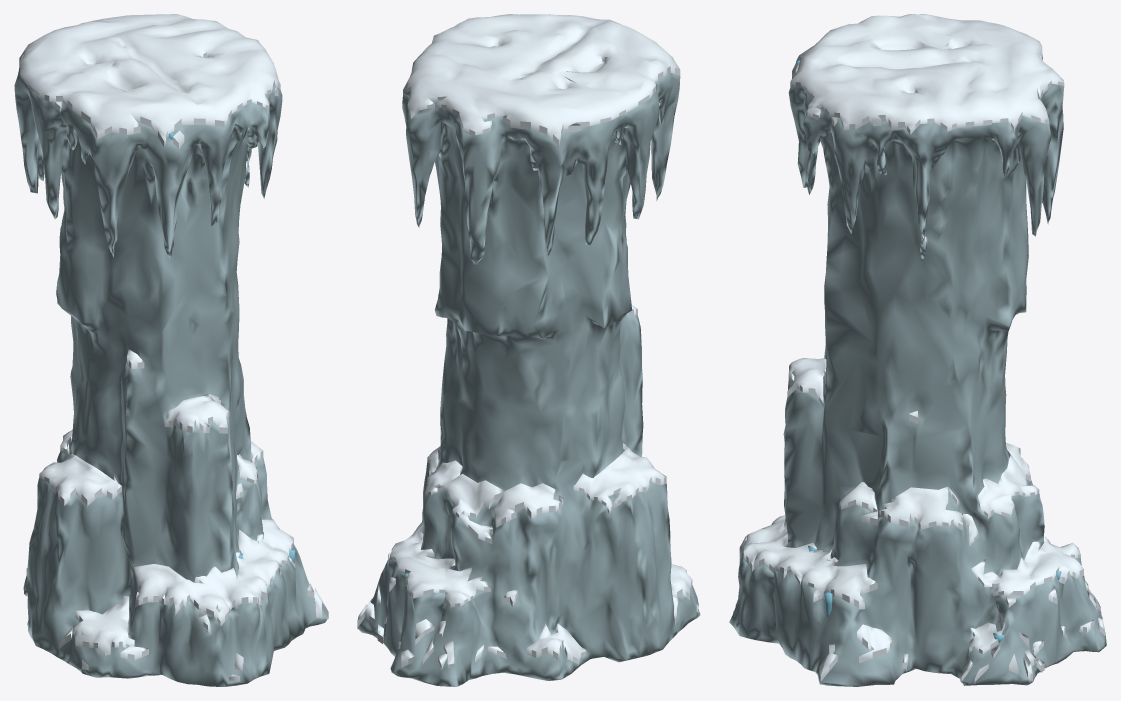
File: BossRoom_FrostPillar.fbx
3 renders of one model, left to right at view 1: azimuth 30°, elevation 25°; view 2: azimuth 150°, elevation 25°; view 3: azimuth 270°, elevation 25°, orthographic.
Visible parts, largest first — view 1: BossRoom_FrostPillar_LOD0; view 2: BossRoom_FrostPillar_LOD0; view 3: BossRoom_FrostPillar_LOD0.
Boxes of the visible parts, x1,y1,x2,y2 form: BossRoom_FrostPillar_LOD0: (14,14,328,686); BossRoom_FrostPillar_LOD0: (357,14,700,686); BossRoom_FrostPillar_LOD0: (729,14,1106,686).
Size of what is drawn, in the model's own units: 2.79 by 6.06 by 3.64.
